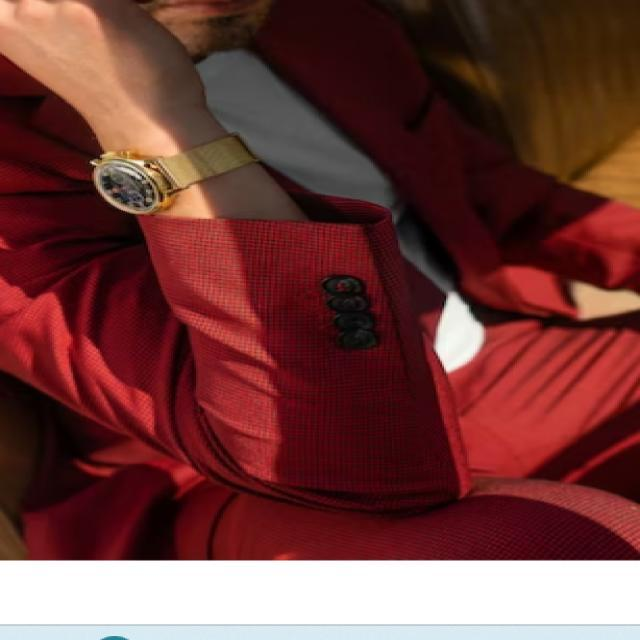Watch: (82, 128, 260, 216)
